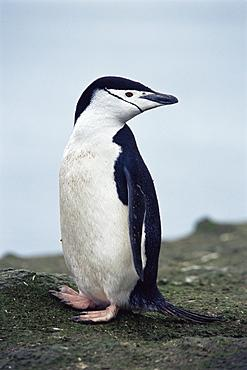chinstrap: (19, 55, 222, 358)
